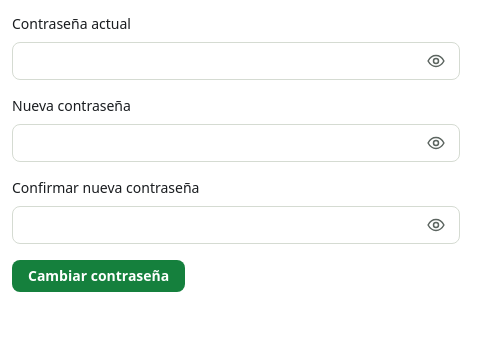
ProfilePasswordForm › requires the current password
This screenshot has width=477, height=337.
Step 1. Type "nuevaClave1" into the password field labelled "Nueva contraseña" → (236, 143), box [12,124,460,162]
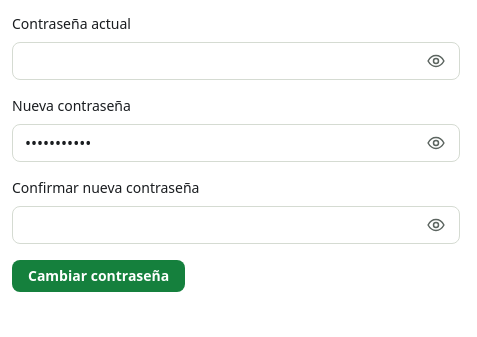
Step 2. Type "nuevaClave1" into the password field labelled "Confirmar nueva contraseña" → (236, 225), box [12,206,460,244]
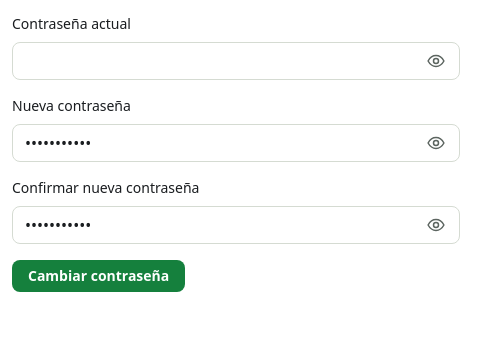
Step 3. Submit the form
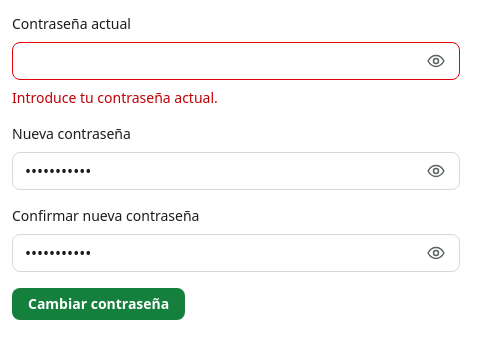
Now the form shows "Introduce tu contraseña actual.", box [12,88,218,107]
